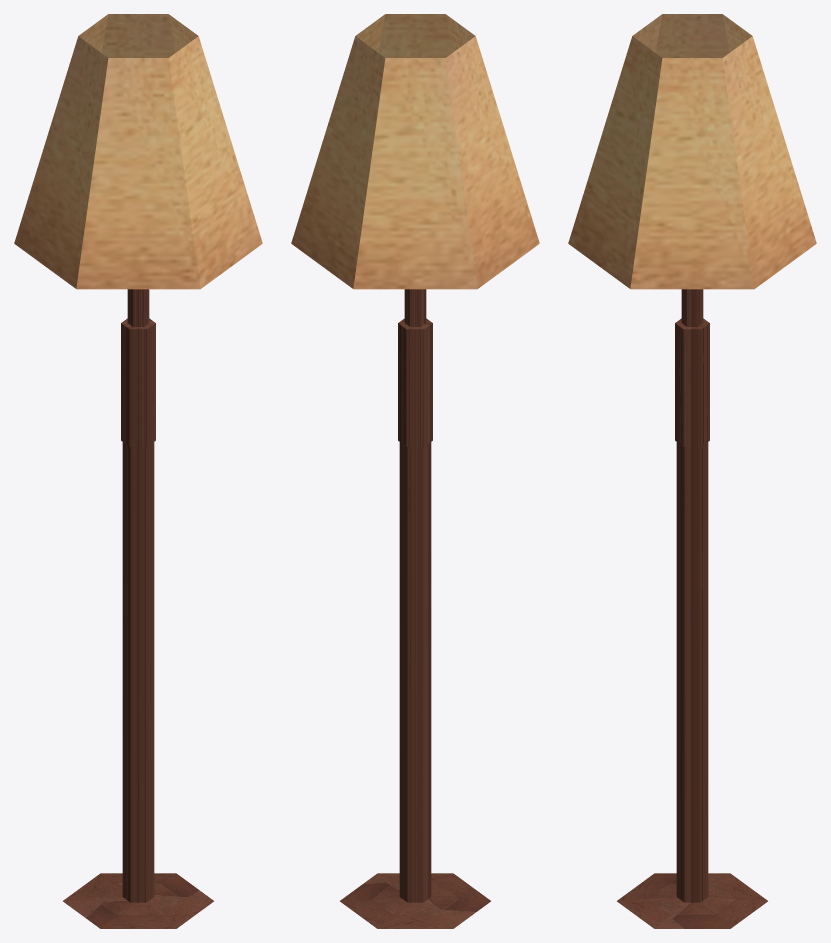
Rendered from lamppppp.glb.
3 views of the same model, side by side, from view 1: azimuth 30°, elevation 25°; view 2: azimuth 150°, elevation 25°; view 3: azimuth 270°, elevation 25° (orthographic).
Visible parts, largest first — view 1: standlamp; view 2: standlamp; view 3: standlamp.
Part boxes in pixels (x1,y1,x2,y2): standlamp: (14,14,262,928); standlamp: (291,14,539,928); standlamp: (568,14,816,928).
Size of the model in its own units: 2.83 by 12.56 by 3.27.
Materials: 2 (2 with a texture image).
